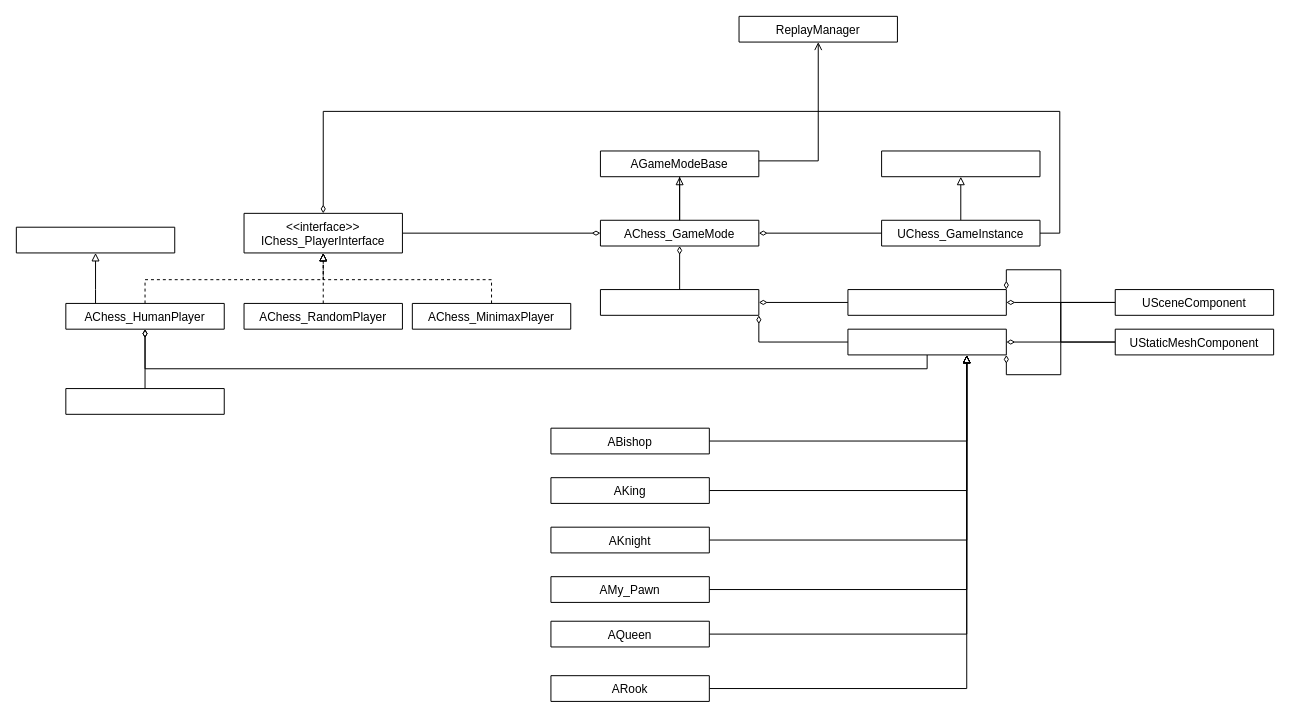
The diagram is 1290 pixels wide and 718 high, and some of its shapes have lost their labels. Each missing label, with the box of its shape:
AChessPiece: (847, 328, 1006, 355)
AGameBoard: (599, 289, 759, 315)
APawn: (15, 226, 175, 253)
ATile: (847, 289, 1006, 315)
UCameraComponent: (65, 388, 224, 414)
UGameInstance: (881, 150, 1040, 177)
